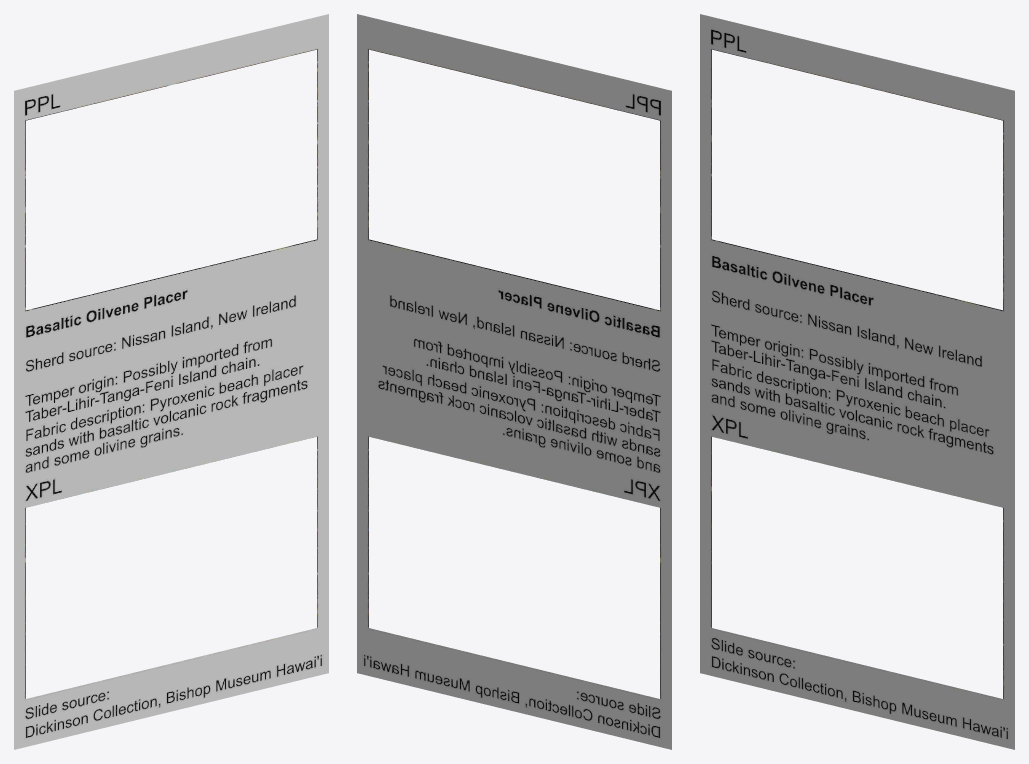
Rendered from wd_38_14_frame.glb.
The picture shows the model from 3 angles, left to right: view 1: azimuth 30°, elevation 25°; view 2: azimuth 150°, elevation 25°; view 3: azimuth 330°, elevation 25°; orthographic projection.
Visible parts, largest first — view 1: WD_38_14; view 2: WD_38_14; view 3: WD_38_14.
Part boxes in pixels (<box>): WD_38_14: <box>14,14,328,749</box>; WD_38_14: <box>357,14,671,749</box>; WD_38_14: <box>700,14,1014,749</box>.
Bounding box in the file's own units: 0.5 × 1 × 4.37e-08.
1 material, 1 textured.
